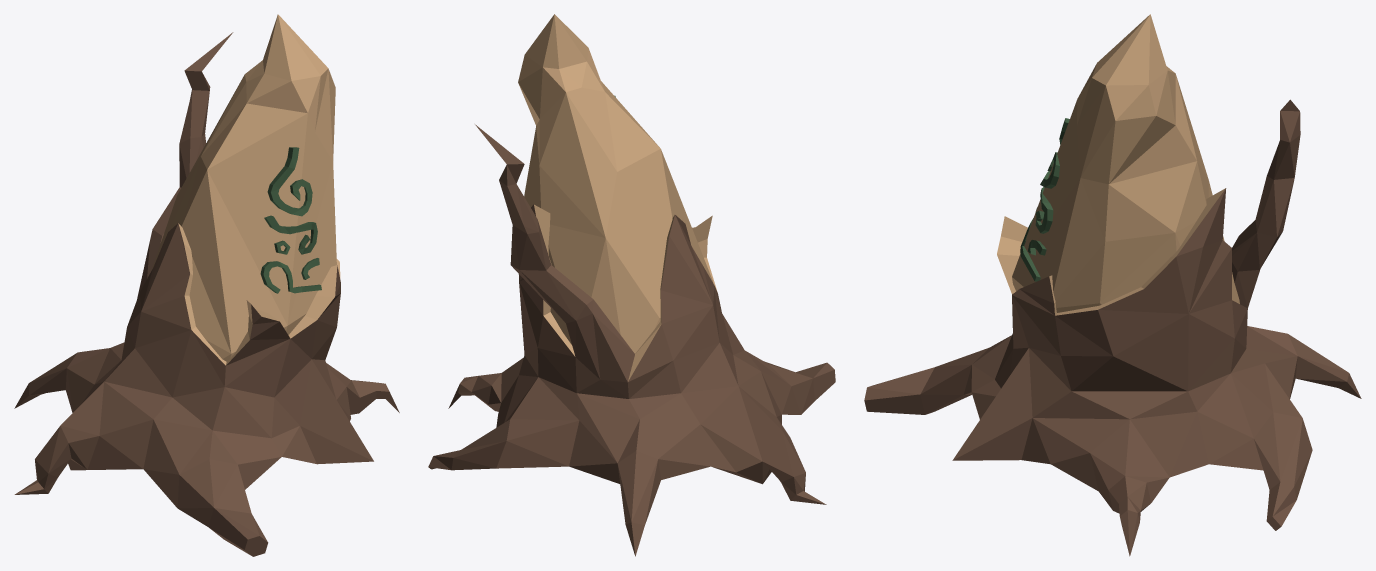
Rendered from _sculpture_3.fbx.
3 views of the same model, side by side, from view 1: azimuth 30°, elevation 25°; view 2: azimuth 150°, elevation 25°; view 3: azimuth 270°, elevation 25° (orthographic). The views are drawn at different scales.
Parts seen in each view (by area): view 1: sculpture_3; view 2: sculpture_3; view 3: sculpture_3.
Boxes of the visible parts, x1,y1,x2,y2 form: sculpture_3: (14,14,399,556); sculpture_3: (428,14,835,556); sculpture_3: (864,14,1361,556).
Size of the model in its own units: 171 by 182 by 171.
